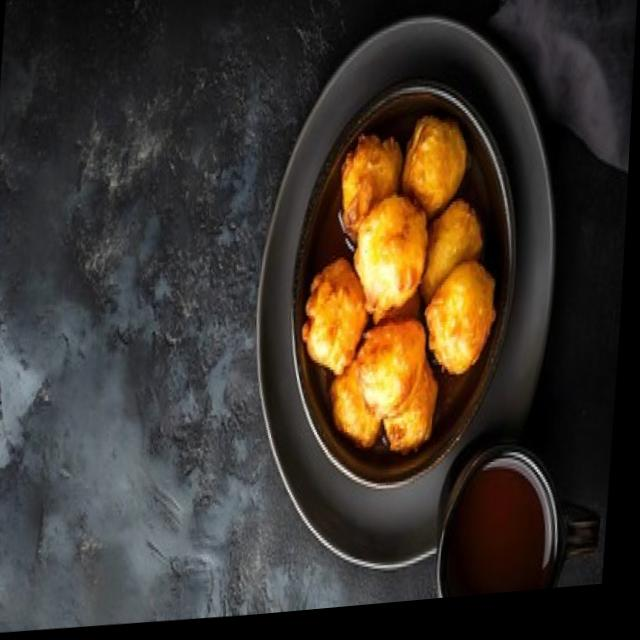BONDA: (304, 113, 495, 455)
SAMBAR: (442, 458, 546, 598)
